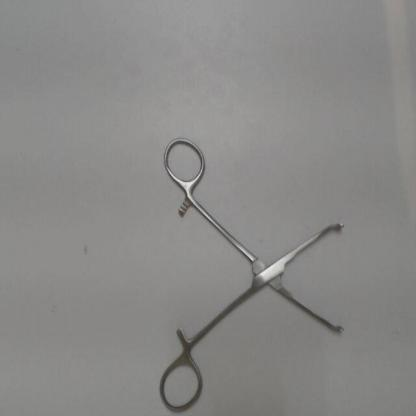Allis Tissue Forceps: (157, 131, 354, 413)
